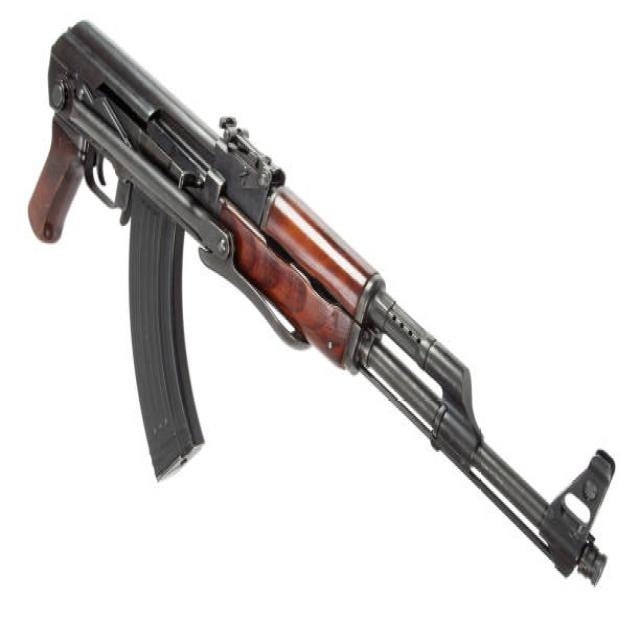rifle: (21, 8, 621, 599)
